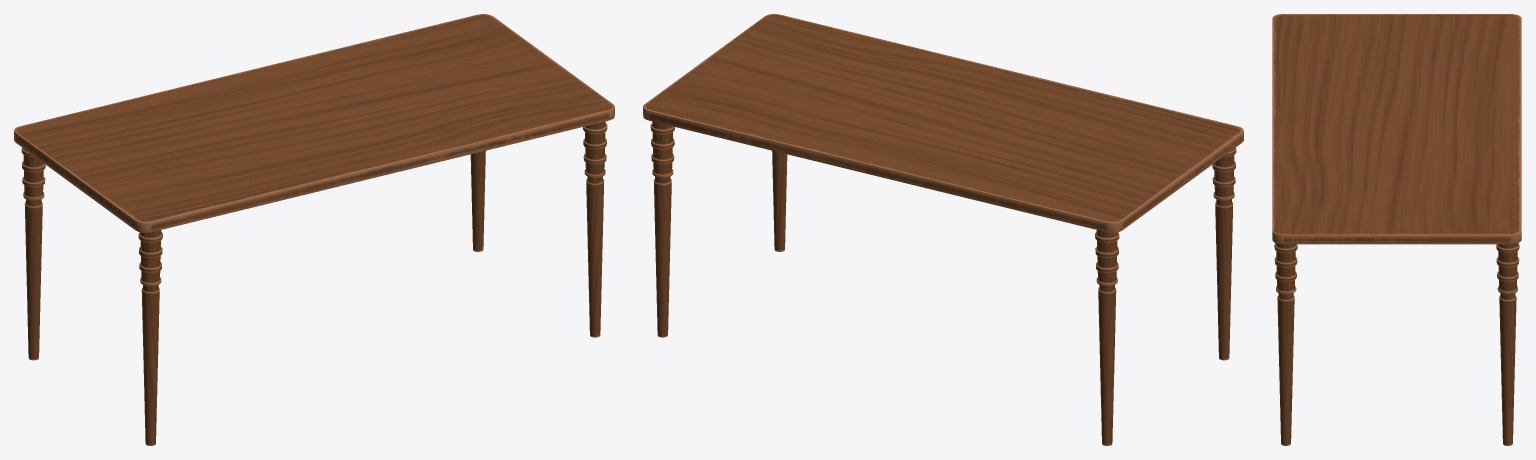
Rendered from M_Furniture_002.fbx.
3 renders of one model, left to right at view 1: azimuth 30°, elevation 25°; view 2: azimuth 150°, elevation 25°; view 3: azimuth 270°, elevation 25°, orthographic. The views are drawn at different scales.
Visible parts, largest first — view 1: M_Furniture_002; view 2: M_Furniture_002; view 3: M_Furniture_002.
Part boxes in pixels (bbox=[...]): M_Furniture_002: bbox=[14, 14, 614, 445]; M_Furniture_002: bbox=[643, 14, 1243, 445]; M_Furniture_002: bbox=[1272, 14, 1521, 445].
Bounding box in the file's own units: 237 × 108 × 113.
Materials: 1 (1 with a texture image).
